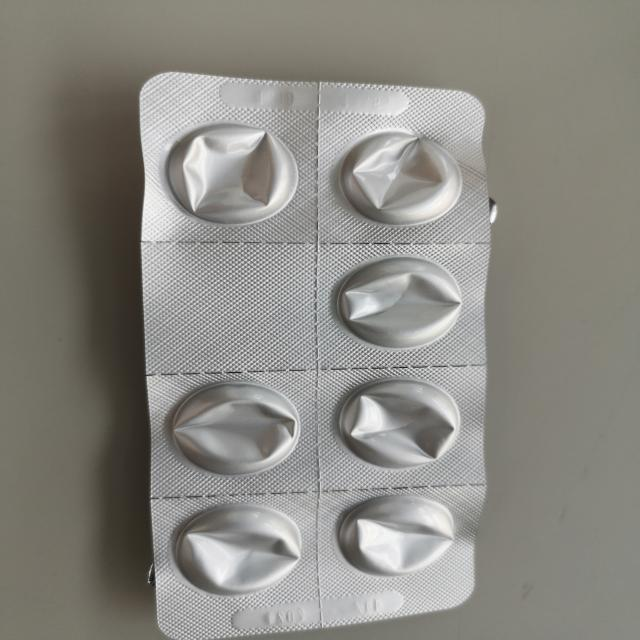Empty: (165, 120, 301, 228), (166, 381, 309, 481), (332, 126, 464, 228), (171, 501, 305, 599), (332, 254, 466, 351), (331, 376, 464, 471), (335, 494, 460, 580)
